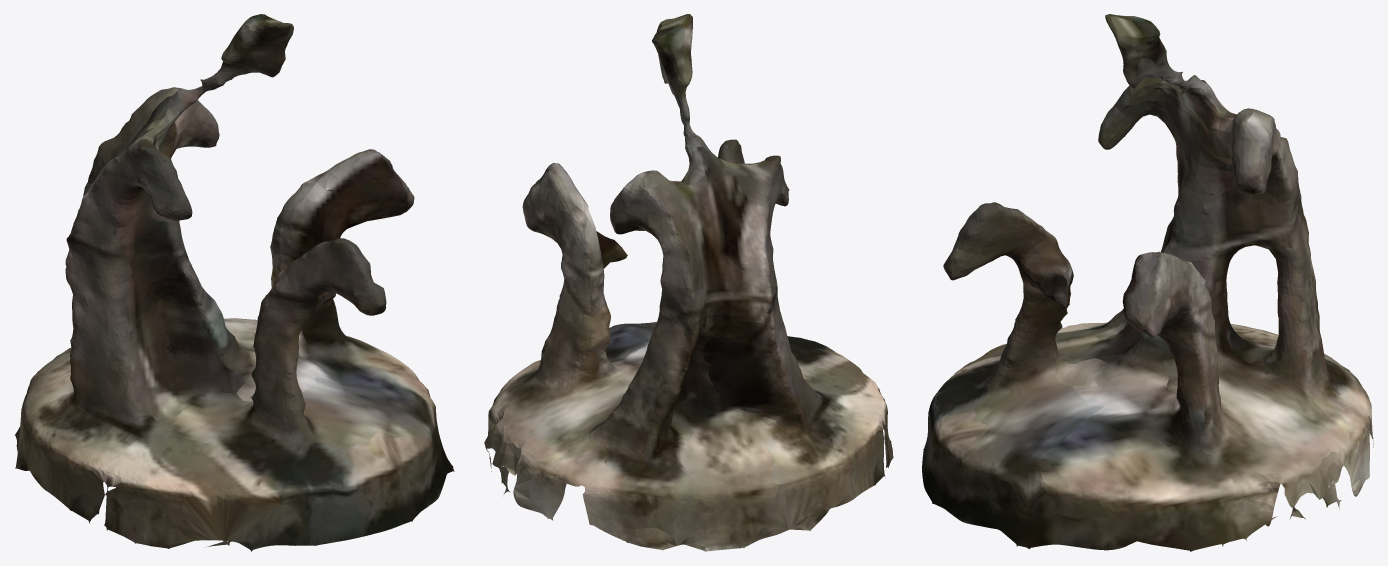
Rendered from birds.glb.
3 views of the same model, side by side, from view 1: azimuth 30°, elevation 25°; view 2: azimuth 150°, elevation 25°; view 3: azimuth 270°, elevation 25° (orthographic). The views are drawn at different scales.
Parts seen in each view (by area): view 1: birds; view 2: birds; view 3: birds.
Boxes of the visible parts, x1,y1,x2,y2 form: birds: [14, 14, 454, 551]; birds: [484, 14, 893, 551]; birds: [922, 14, 1373, 551].
Size of the model in its own units: 2.11 by 2.5 by 2.21.
1 material, 1 textured.
